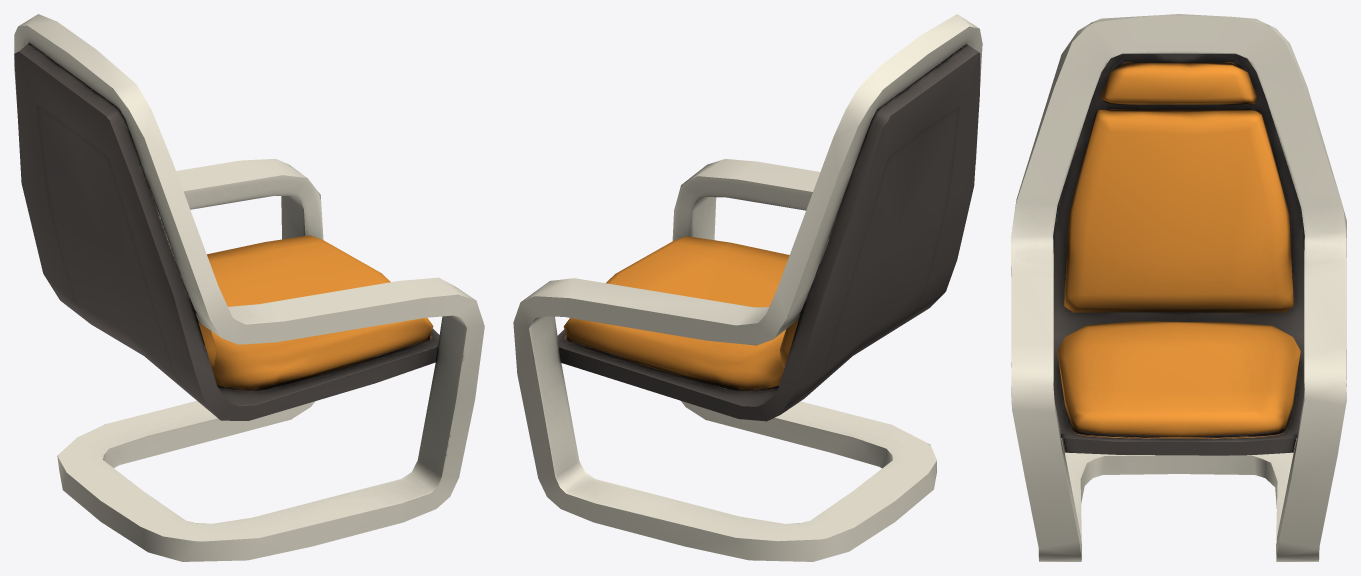
The model's file is SM_Chair.glb.
The picture shows the model from 3 angles, left to right: view 1: azimuth 30°, elevation 25°; view 2: azimuth 150°, elevation 25°; view 3: azimuth 270°, elevation 25°; orthographic projection. The views are drawn at different scales.
Visible parts, largest first — view 1: SM_Chair; view 2: SM_Chair; view 3: SM_Chair.
Part boxes in pixels (x1,y1,x2,y2): SM_Chair: (14, 14, 484, 561); SM_Chair: (513, 14, 982, 561); SM_Chair: (1011, 14, 1346, 561).
Bounding box in the file's own units: 0.823 × 1.15 × 0.8096.
Materials: 1 (1 with a texture image).
